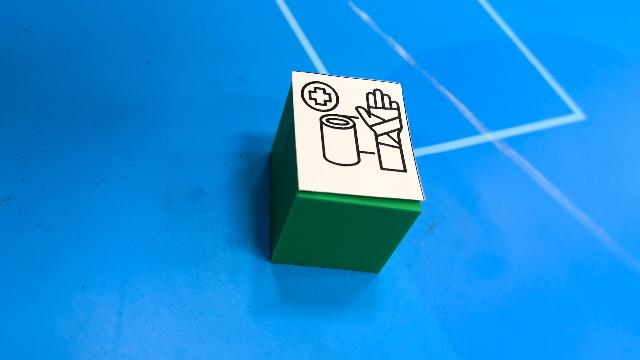bandage: (268, 71, 426, 274)
